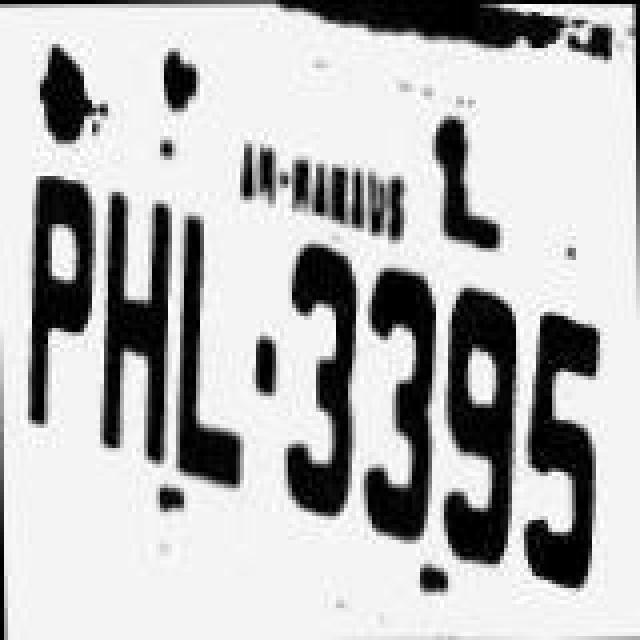3: (276, 236, 364, 520), (360, 260, 444, 540)
5: (516, 308, 608, 596)
9: (436, 286, 528, 570)
H: (94, 190, 178, 474)
L: (172, 220, 260, 492)
P: (14, 166, 98, 442)
